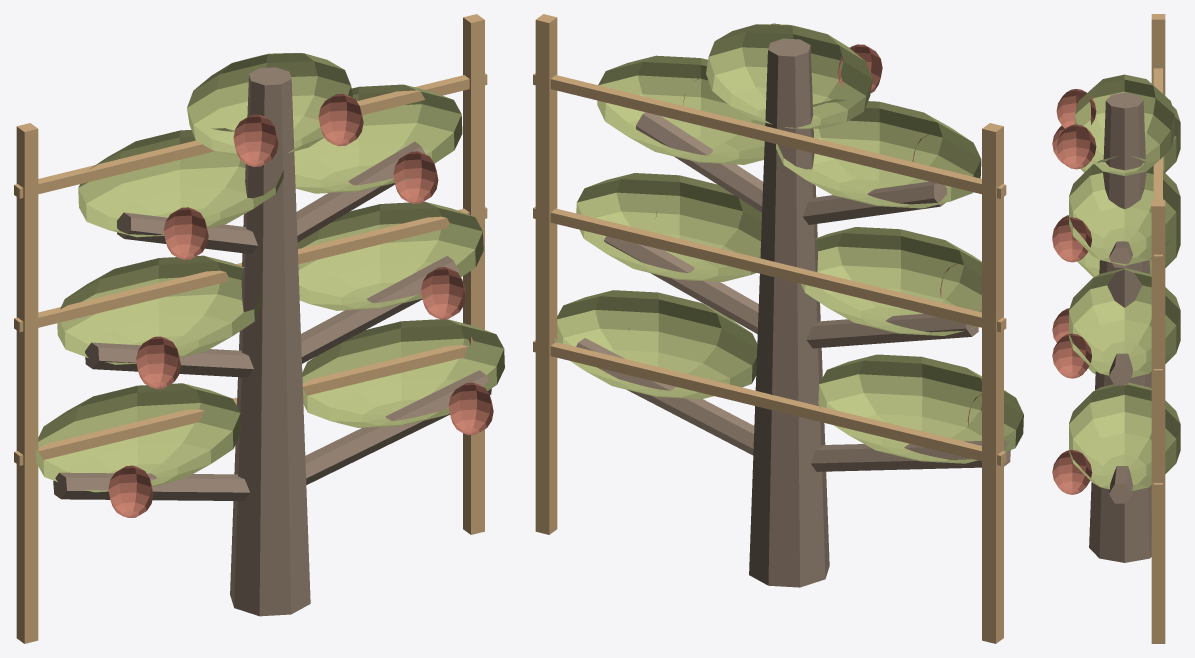
The model's file is harvest-hearth-fan-trained-orchard-tree__58.glb.
The picture shows the model from 3 angles, left to right: view 1: azimuth 30°, elevation 25°; view 2: azimuth 150°, elevation 25°; view 3: azimuth 270°, elevation 25°; orthographic projection. The views are drawn at different scales.
Visible parts, largest first — view 1: harvest-hearth-orchard-tree; view 2: harvest-hearth-orchard-tree; view 3: harvest-hearth-orchard-tree.
Part boxes in pixels (<box>): harvest-hearth-orchard-tree: <box>14,14,504,643</box>; harvest-hearth-orchard-tree: <box>533,14,1023,643</box>; harvest-hearth-orchard-tree: <box>1052,14,1180,643</box>.
Size of the model in its own units: 2.2 by 2.42 by 0.6113.
